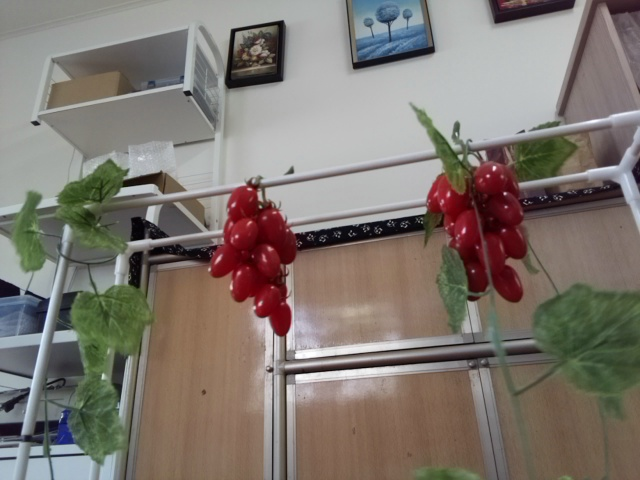fake-tomato: (425, 159, 530, 306), (207, 180, 301, 339)
